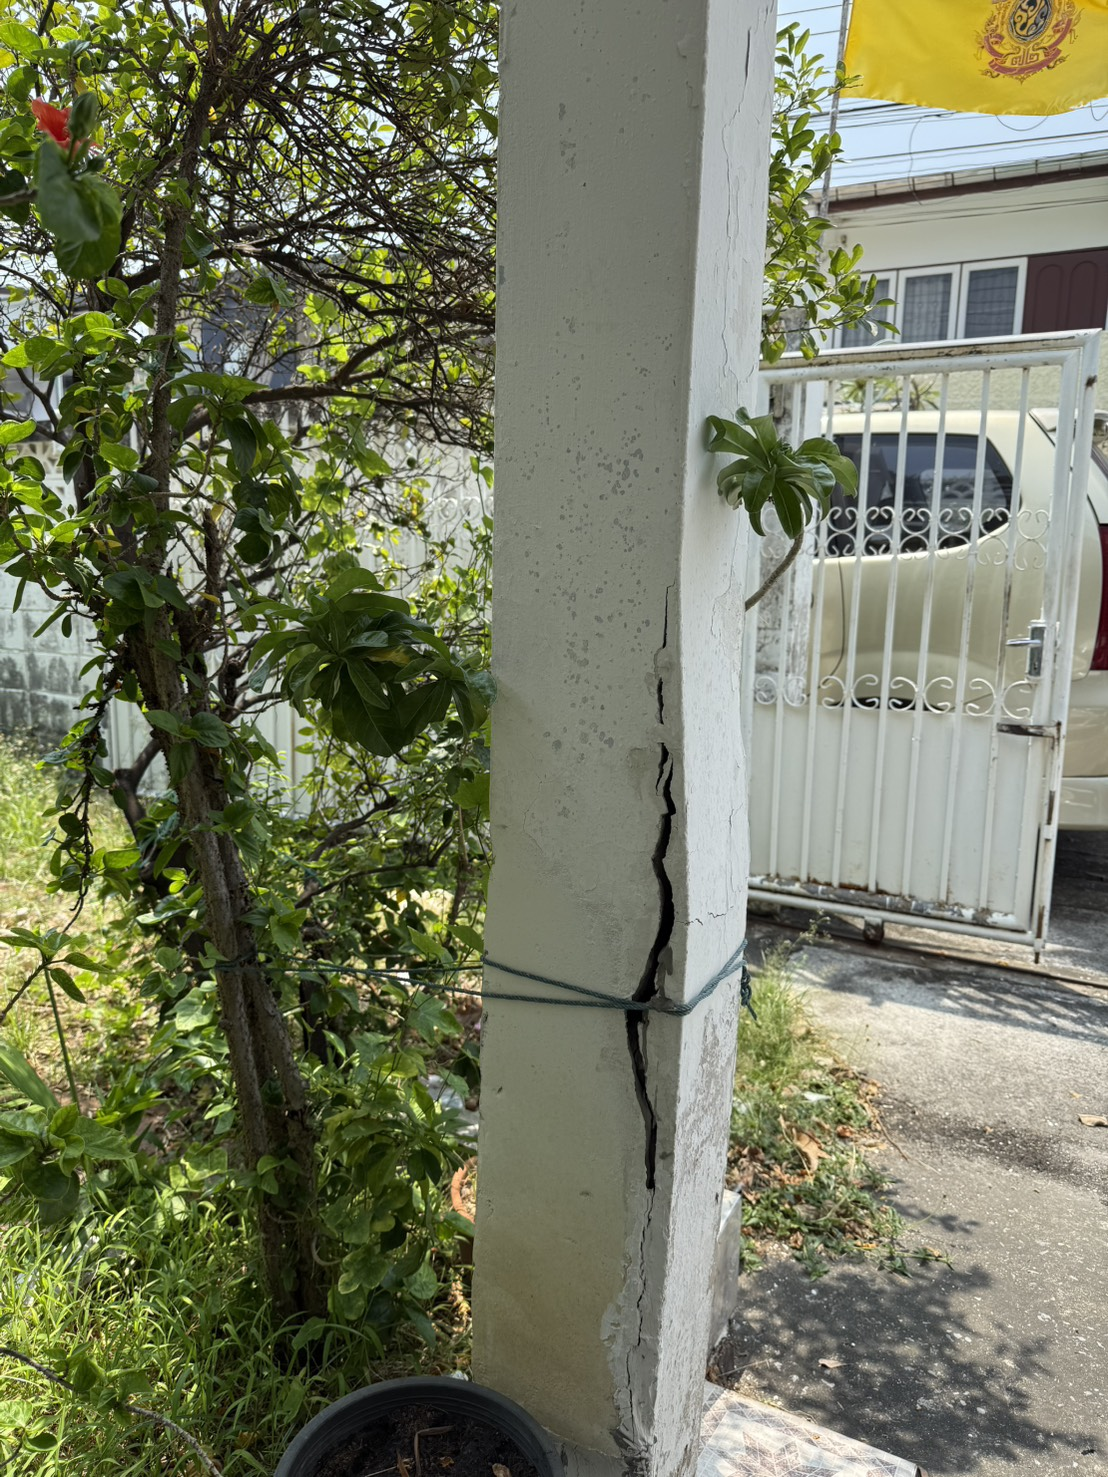High: (566, 548, 736, 1475)
